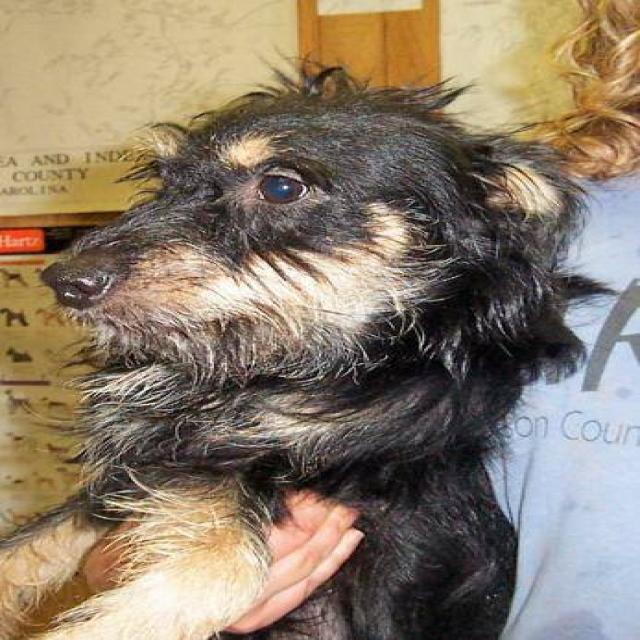dog: (0, 47, 618, 639)
